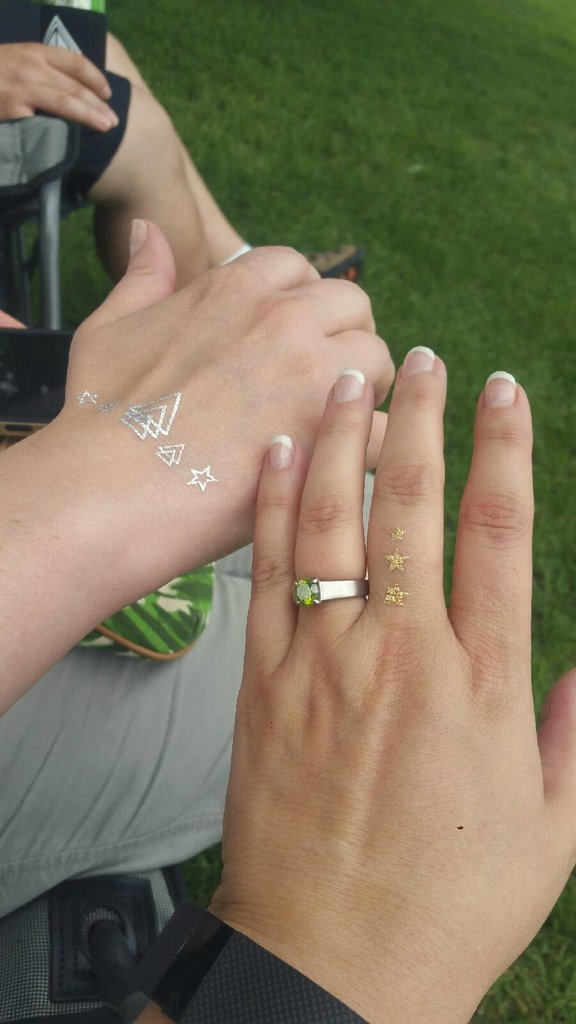Human_hand: (214, 343, 575, 1023), (61, 218, 396, 579), (0, 42, 120, 136)
